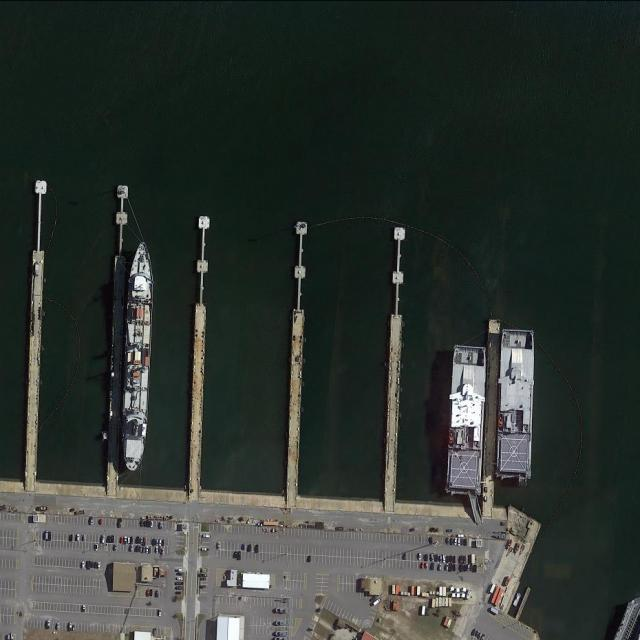Auxiliary Ships: (443, 343, 489, 495), (494, 327, 537, 482)
Cargo: (118, 239, 156, 473)
Dock: (102, 184, 129, 484), (282, 222, 310, 498), (186, 215, 211, 492), (381, 224, 405, 502), (27, 181, 46, 481)
